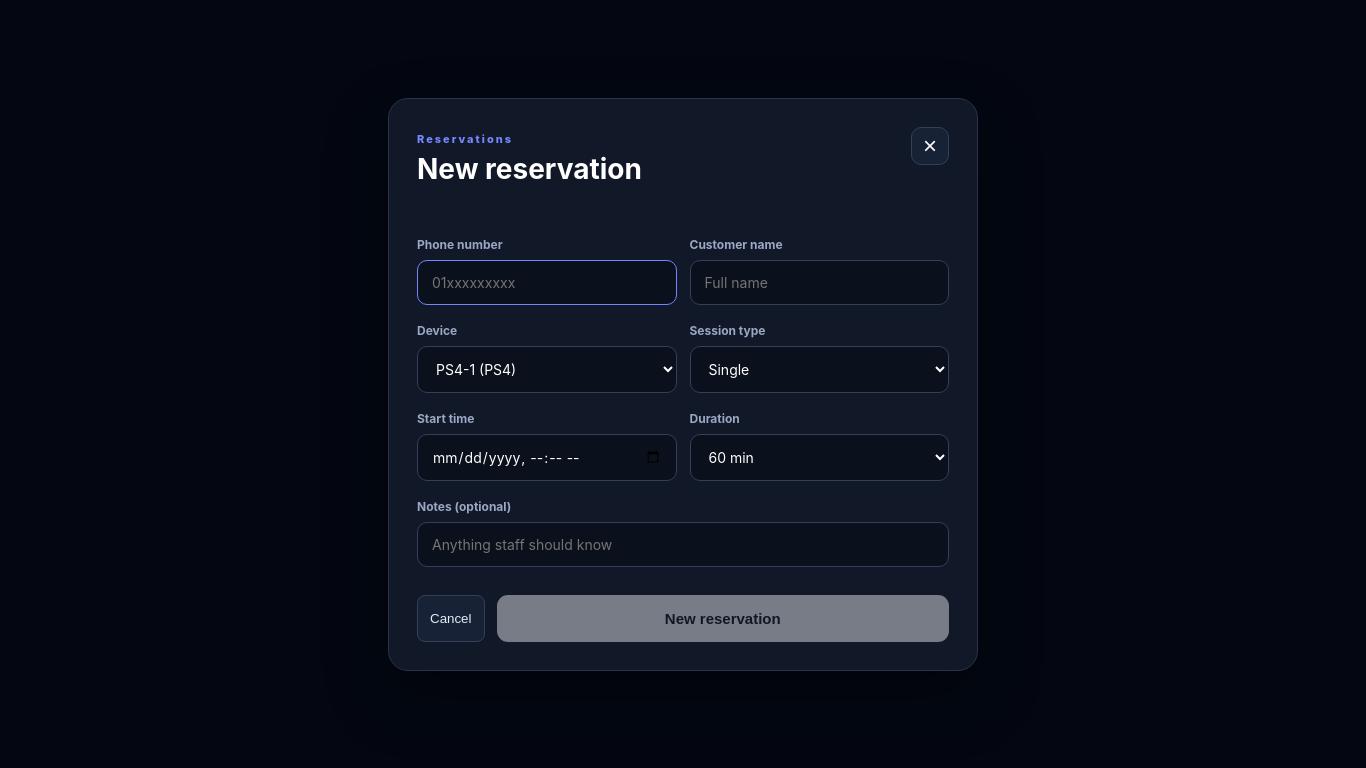
Test: ReservationFormModal › looks up an existing customer by phone and fills in their name
Type "01000000003" into the field labelled "Phone number" at (547, 282), box [417,260,676,304]
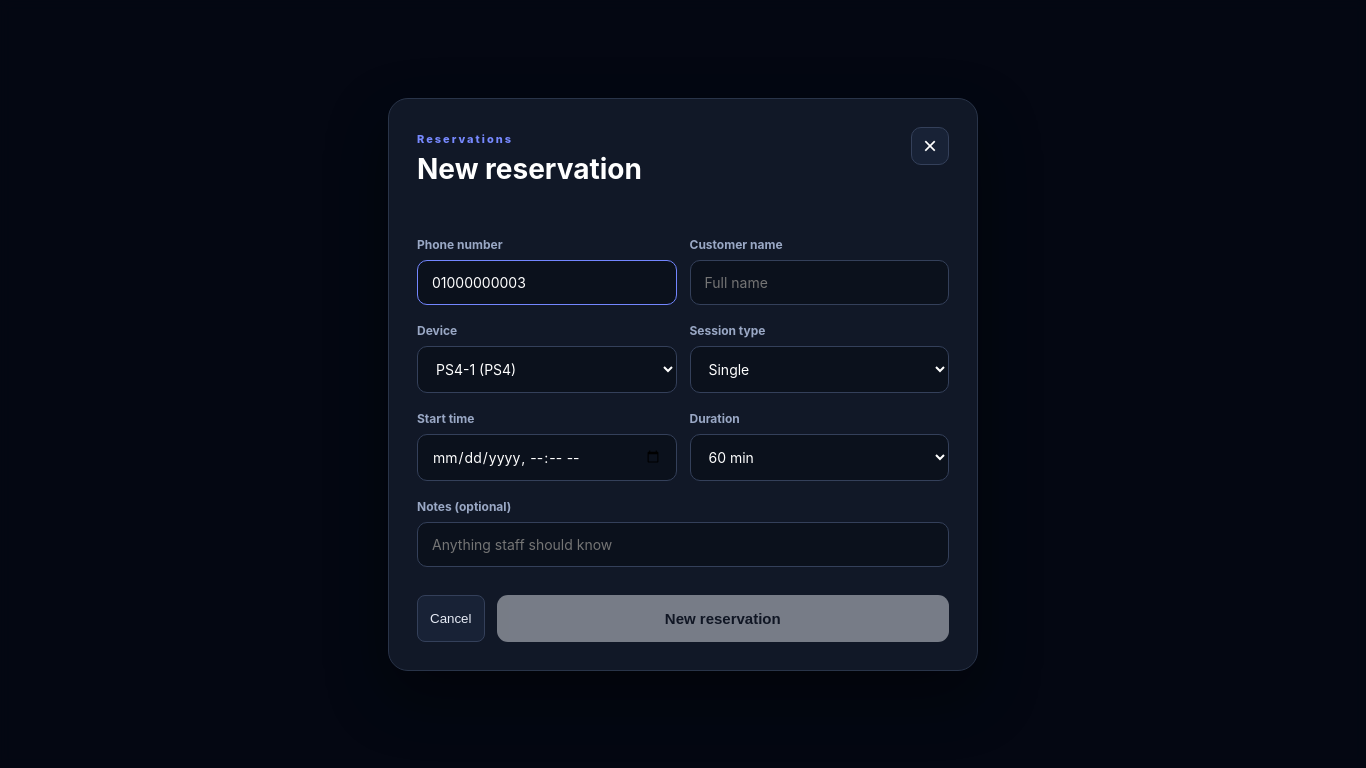
Press Tab
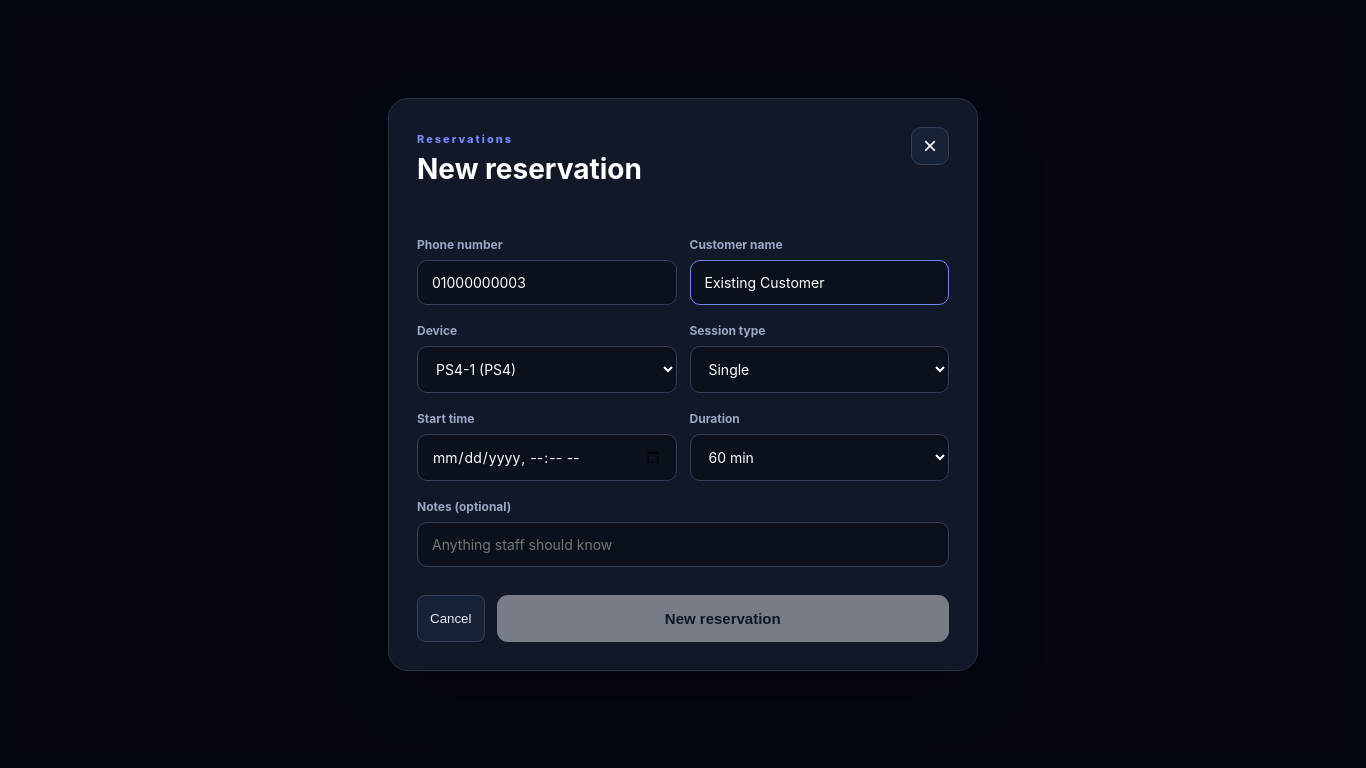
Expected: the field labelled "Customer name" holds "Existing Customer", [690,260,949,304]
